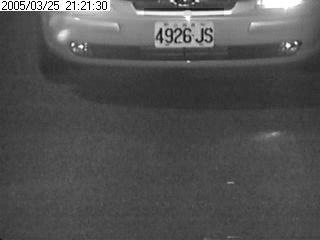plate: (152, 18, 216, 50)
